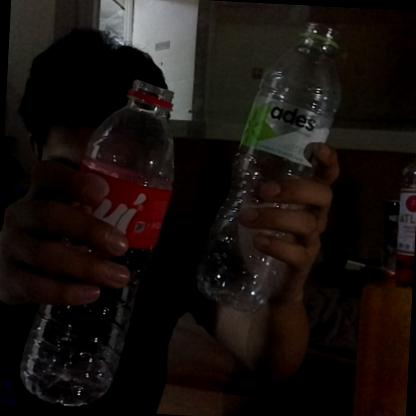plastic_bottles: (14, 71, 182, 414), (187, 16, 347, 320)
